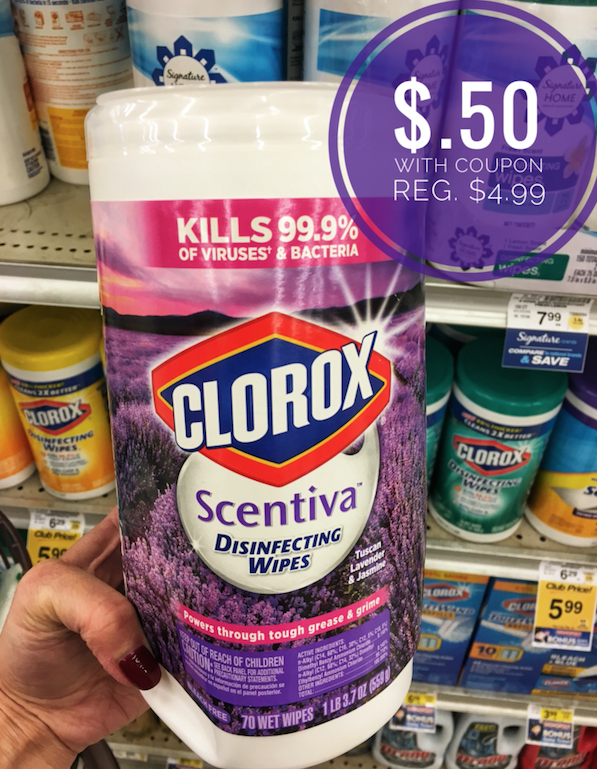Wipes: (77, 73, 430, 769), (426, 320, 572, 550), (1, 306, 116, 503), (417, 326, 459, 548)
